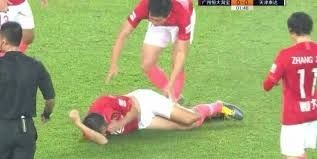falling: (67, 81, 245, 146)
